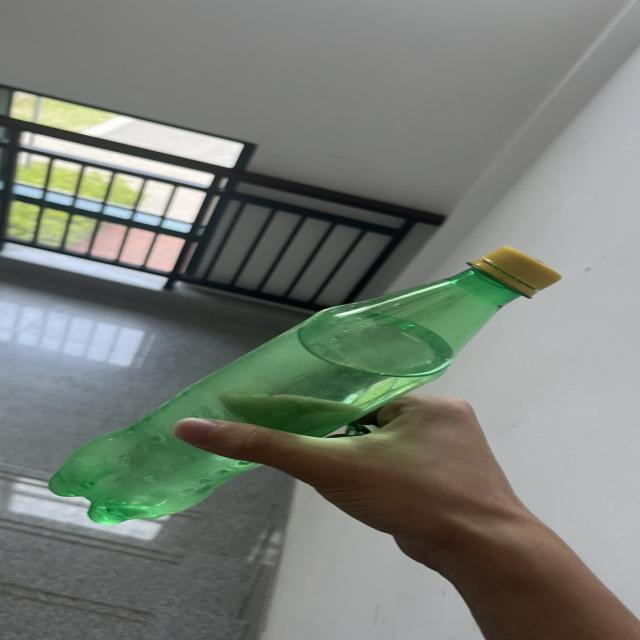high: (50, 247, 560, 524)
